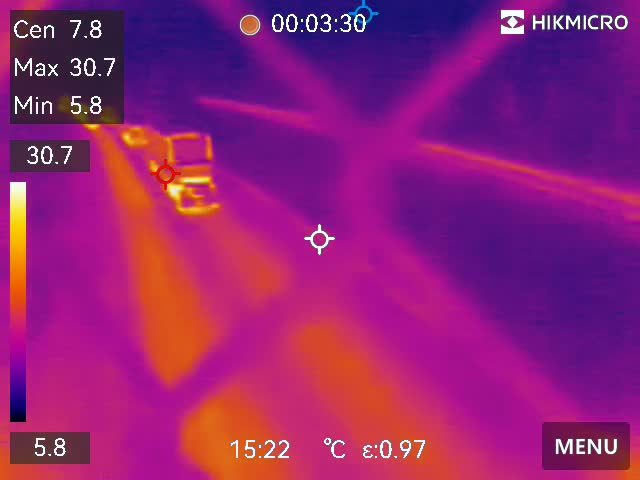heavyTruck: (143, 123, 225, 214)
